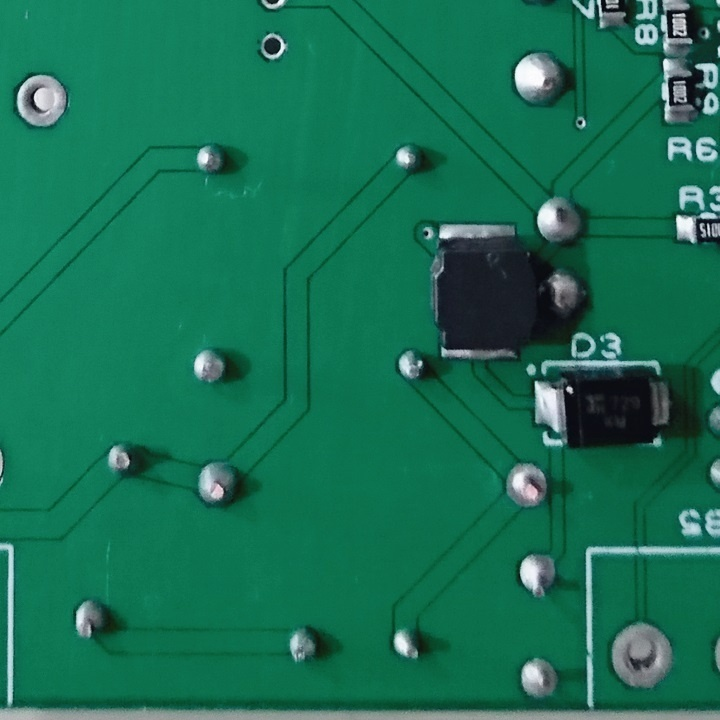F: (604, 618, 679, 692), (11, 69, 71, 131), (501, 461, 550, 512), (515, 654, 563, 703), (514, 550, 558, 602), (257, 28, 288, 66)
